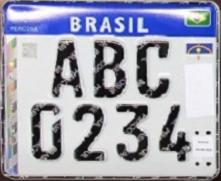Placa_mercosul_carro: (5, 3, 217, 177)
